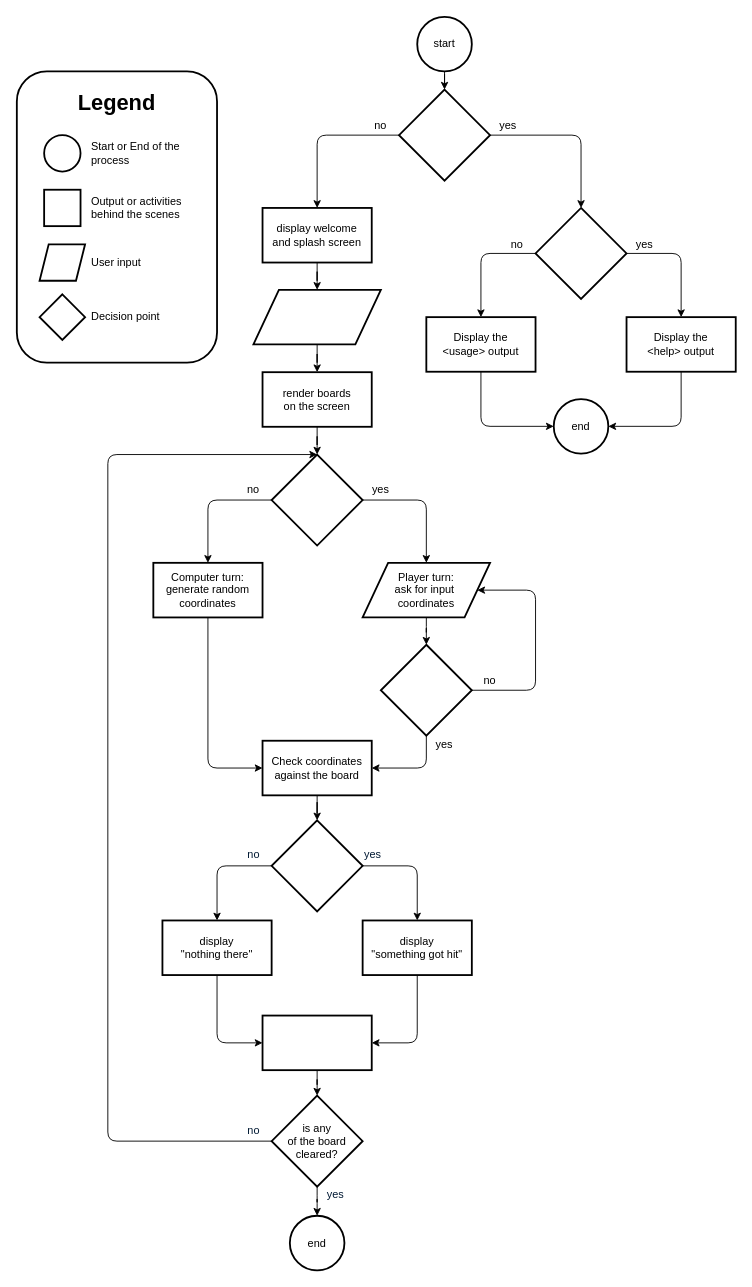
The diagram is 752 pixels wide and 1287 high, and some of its shapes have lost their labels. The box of each missing label's shape, as (x1, y1, x2, y2) in pixels:
Are the coordinates valid?: (379, 643, 472, 736)
Ask for user name: (252, 288, 381, 345)
is it --help or -h?: (534, 207, 627, 299)
is it the player turn?: (270, 453, 363, 546)
option provided?: (398, 88, 490, 181)
update the shooted cell on the boards: (261, 1014, 372, 1071)
was anything hit?: (270, 819, 363, 912)
